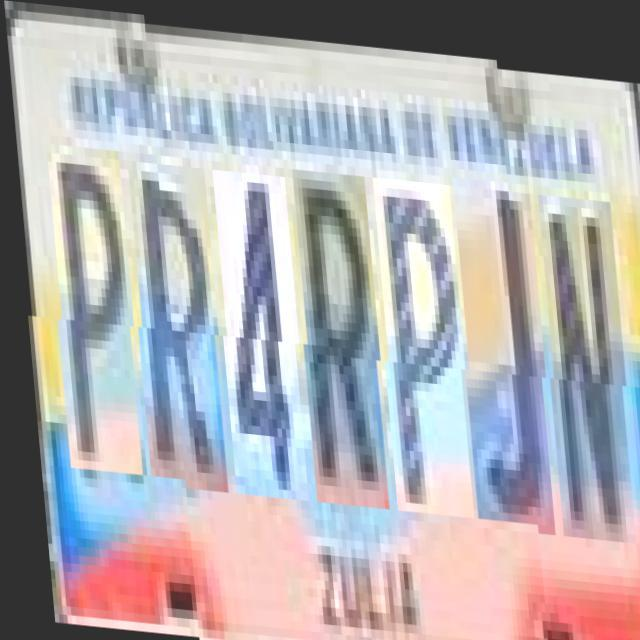4: (209, 165, 304, 495)
J: (450, 168, 550, 516)
N: (534, 175, 630, 522)
P: (370, 170, 470, 509), (44, 152, 139, 482)
R: (124, 158, 223, 489), (290, 163, 385, 502)
